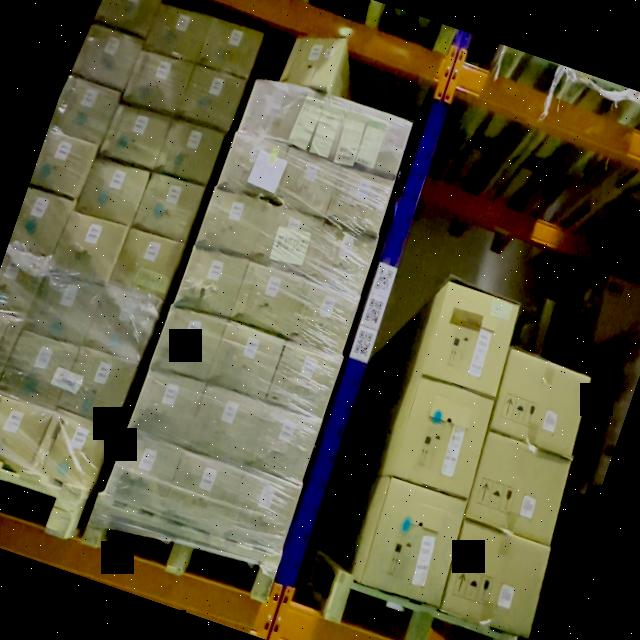box: (358, 482, 470, 606), (438, 523, 552, 636), (390, 378, 496, 498), (463, 435, 571, 541), (489, 349, 594, 454), (420, 286, 520, 394), (162, 454, 241, 536), (36, 413, 114, 492), (104, 432, 180, 512), (185, 387, 262, 465), (224, 472, 299, 552), (129, 367, 204, 446), (208, 322, 283, 400), (60, 346, 134, 424), (87, 286, 161, 362), (230, 262, 306, 336), (153, 305, 225, 381), (246, 407, 318, 482), (3, 331, 75, 406), (176, 244, 247, 318), (53, 210, 124, 284), (29, 270, 100, 344), (269, 344, 339, 417), (111, 227, 182, 298), (288, 282, 358, 354), (307, 222, 377, 293), (198, 189, 266, 260), (134, 173, 202, 243), (253, 205, 321, 275), (220, 132, 288, 200), (50, 77, 117, 145), (294, 95, 362, 162), (346, 109, 412, 178), (8, 185, 70, 258), (80, 158, 146, 226), (327, 167, 392, 236), (155, 118, 221, 185), (274, 150, 340, 217), (75, 23, 141, 90), (178, 64, 244, 130), (124, 50, 190, 116), (102, 104, 168, 169), (30, 130, 94, 197), (282, 30, 344, 96), (198, 17, 262, 79), (243, 81, 304, 144), (0, 394, 50, 470), (148, 2, 209, 62), (0, 249, 44, 317), (98, 0, 162, 36), (0, 310, 19, 382)
